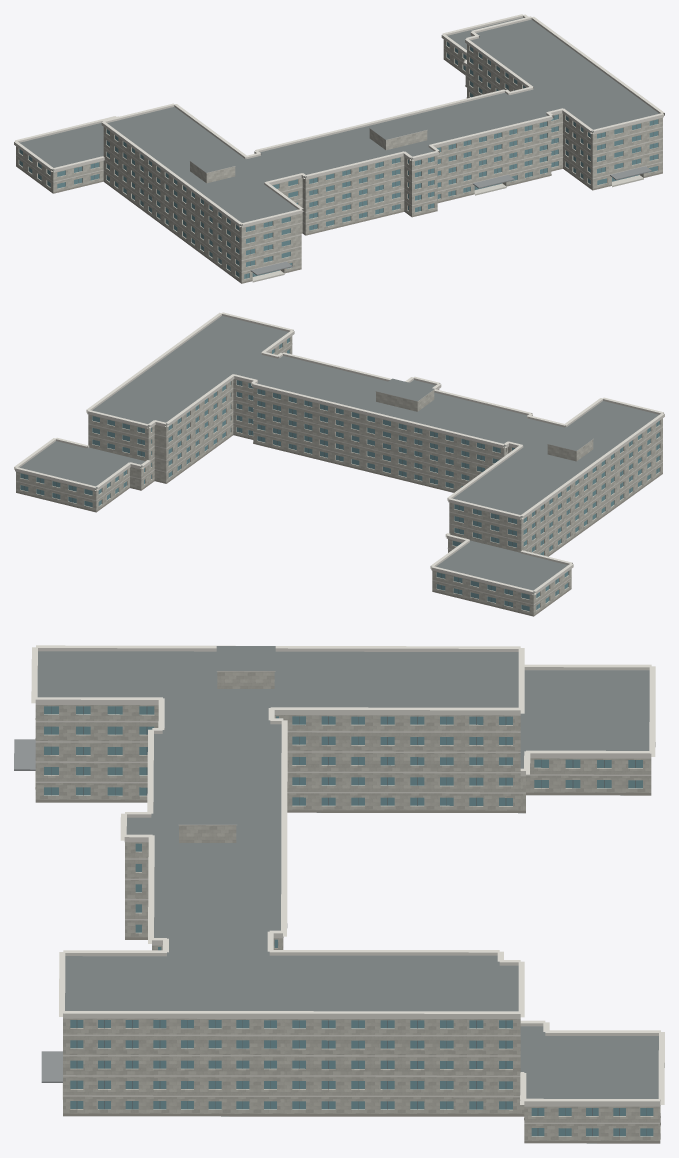
The picture shows the model from 3 angles, top to bottom: view 1: azimuth 30°, elevation 25°; view 2: azimuth 150°, elevation 25°; view 3: azimuth 270°, elevation 25°; orthographic projection. The views are drawn at different scales.
Parts seen in each view (by area): view 1: engineering__wall, engineering__roof, engineering__trim, engineering__glass, engineering__base, engineering__canopy, engineering__frame; view 2: engineering__roof, engineering__wall, engineering__trim, engineering__glass, engineering__base, engineering__frame; view 3: engineering__roof, engineering__wall, engineering__trim, engineering__glass, engineering__base, engineering__frame, engineering__canopy.
Boxes of the visible parts, <box> form: engineering__wall: <box>16,39,662,282</box>; engineering__roof: <box>19,17,658,225</box>; engineering__trim: <box>14,14,664,272</box>; engineering__glass: <box>19,42,658,278</box>; engineering__base: <box>16,58,662,283</box>; engineering__canopy: <box>250,166,651,275</box>; engineering__frame: <box>78,43,653,278</box>; engineering__roof: <box>20,315,658,592</box>; engineering__wall: <box>16,336,662,616</box>; engineering__trim: <box>14,312,664,605</box>; engineering__glass: <box>20,338,659,611</box>; engineering__base: <box>16,433,662,616</box>; engineering__frame: <box>24,344,657,608</box>; engineering__roof: <box>37,646,658,1143</box>; engineering__wall: <box>35,671,660,1140</box>; engineering__trim: <box>31,645,664,1123</box>; engineering__glass: <box>44,706,653,1136</box>; engineering__base: <box>35,792,660,1143</box>; engineering__frame: <box>51,706,646,1136</box>; engineering__canopy: <box>14,739,62,1082</box>.
Bounding box in the file's own units: 162 × 21.1 × 102.
Materials: 11 (1 with a texture image).
